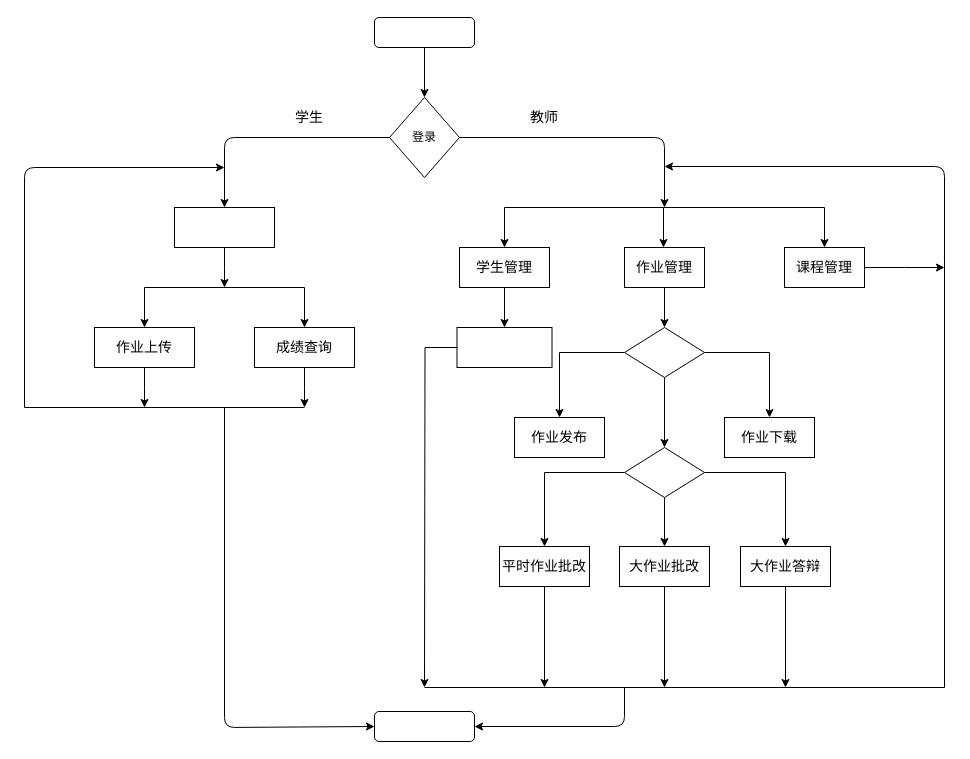
This 970x759 diagram has some shape labels left out. The box of each missing label's shape, as (x1, y1, x2, y2) in pixels:
信息导入/导出: (456, 326, 552, 368)
开始: (374, 16, 474, 48)
操作命令: (624, 326, 704, 378)
结束: (374, 710, 474, 742)
评分: (624, 446, 704, 498)
课程选择: (174, 206, 274, 248)
